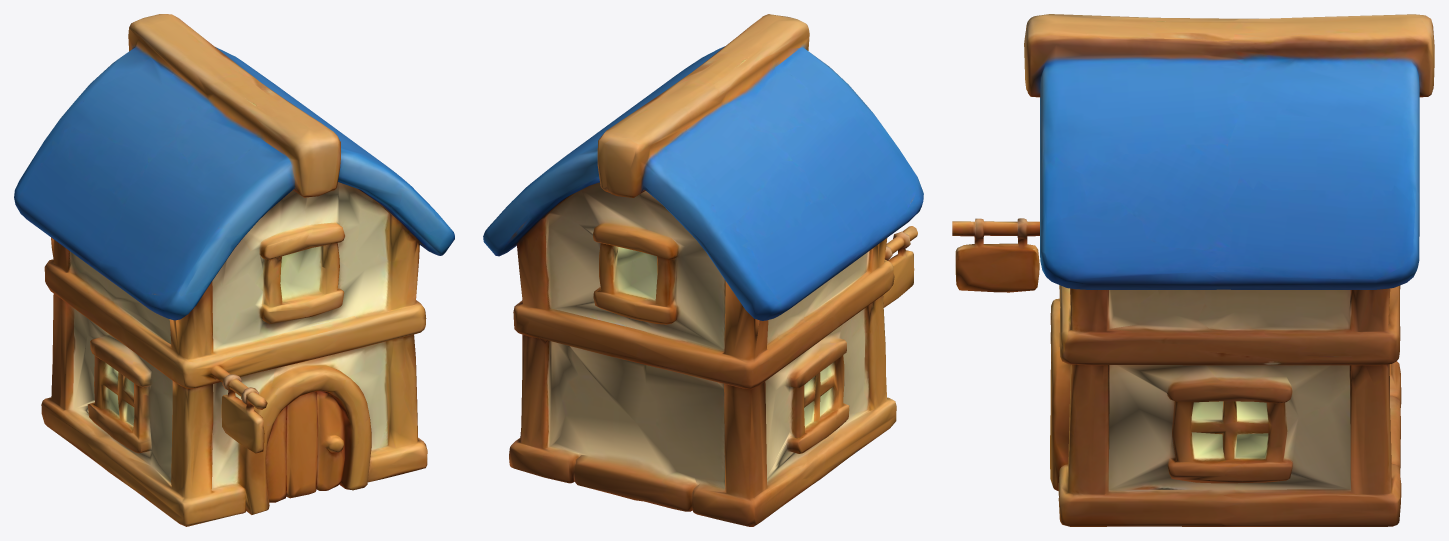
The model's file is benbow-inn.glb.
The picture shows the model from 3 angles, left to right: view 1: azimuth 30°, elevation 25°; view 2: azimuth 150°, elevation 25°; view 3: azimuth 270°, elevation 25°; orthographic projection. The views are drawn at different scales.
Parts seen in each view (by area): view 1: tripo_node_2f82588f-2379-4b62-8999-b126e8aa9812; view 2: tripo_node_2f82588f-2379-4b62-8999-b126e8aa9812; view 3: tripo_node_2f82588f-2379-4b62-8999-b126e8aa9812.
Boxes of the visible parts, bbox=[...] form: tripo_node_2f82588f-2379-4b62-8999-b126e8aa9812: bbox=[14, 14, 454, 526]; tripo_node_2f82588f-2379-4b62-8999-b126e8aa9812: bbox=[483, 14, 923, 526]; tripo_node_2f82588f-2379-4b62-8999-b126e8aa9812: bbox=[952, 14, 1434, 526].
Bounding box in the file's own units: 0.8365 × 0.999 × 0.9971.
1 material, 1 textured.
